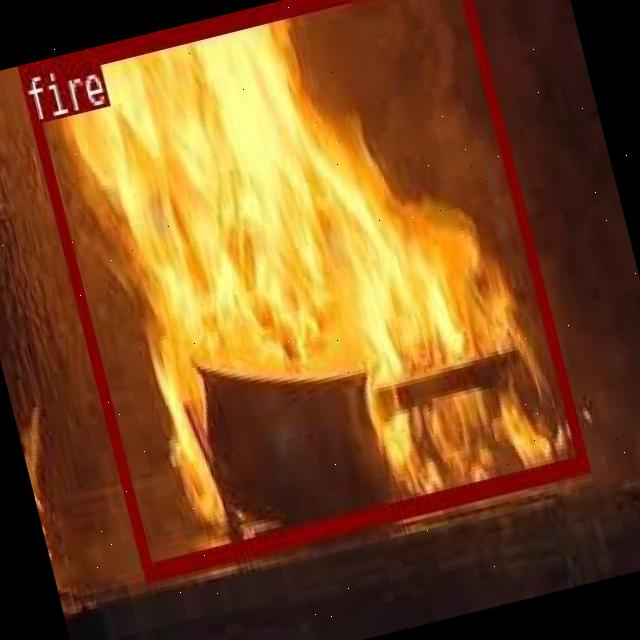fire: (16, 0, 586, 580)
